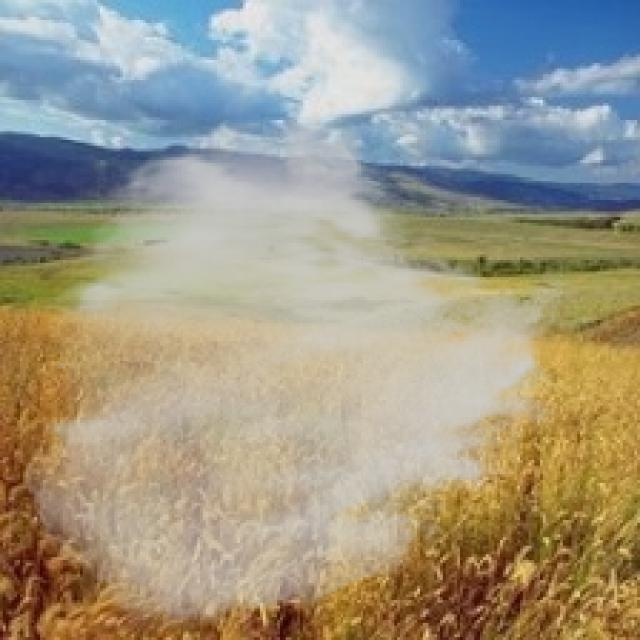Smoke: (20, 115, 577, 634)
